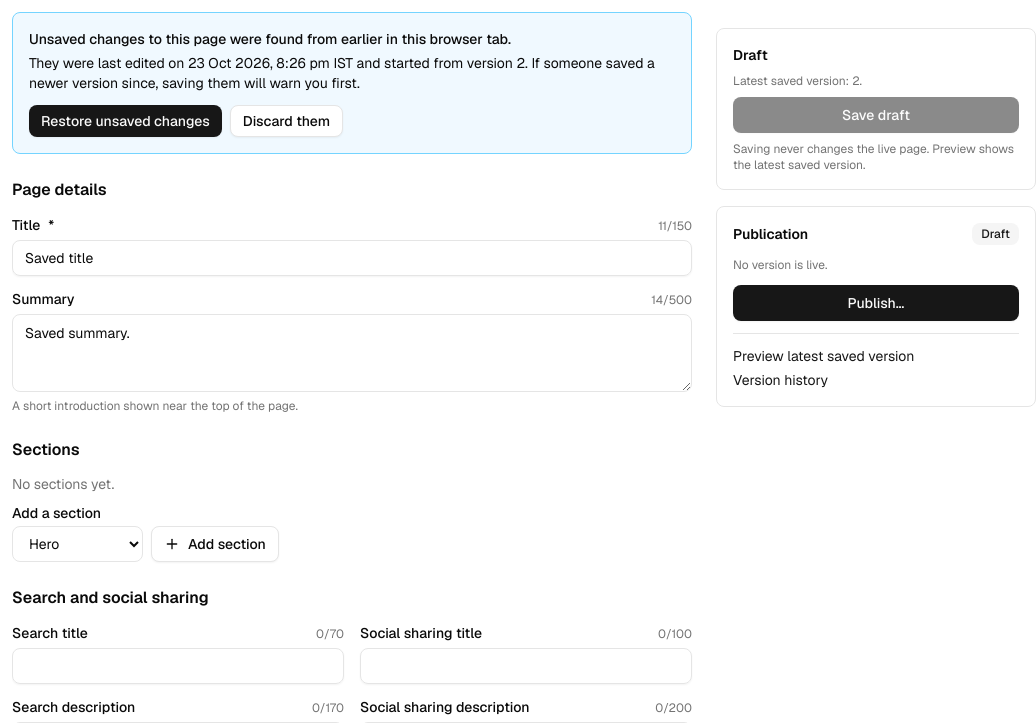
Recovery copy rules › user isolation › offers the signed-in user only their own copy
Click the button "Restore unsaved changes": (125, 121) [29, 105, 222, 137]
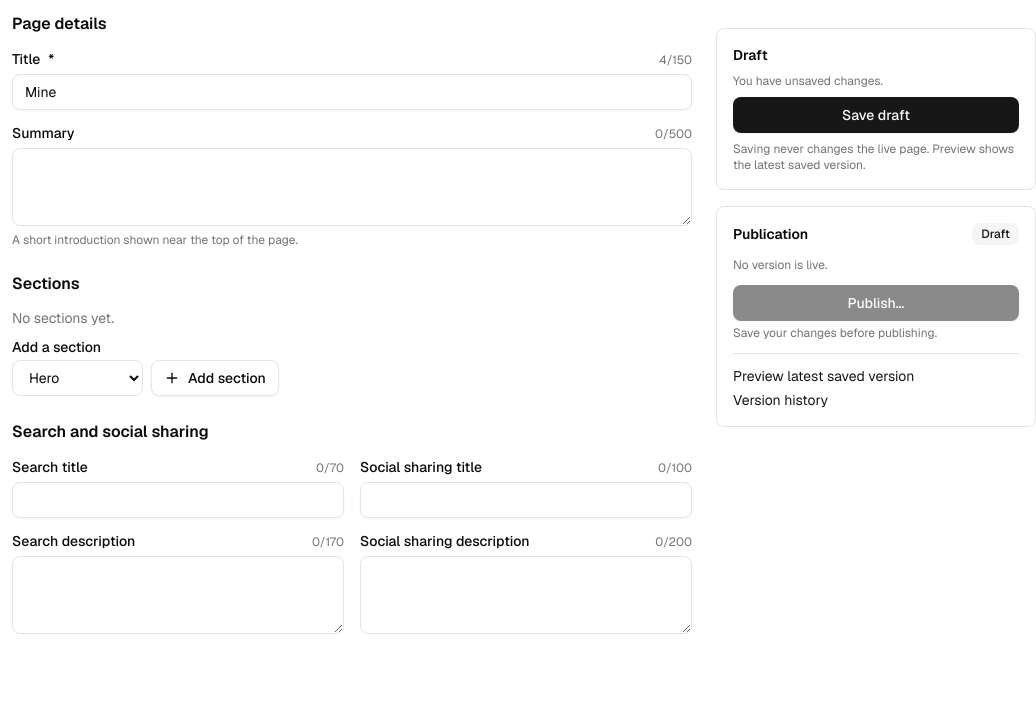
expect the field labelled "Title *" holds "Mine": met, box [12, 74, 692, 110]
